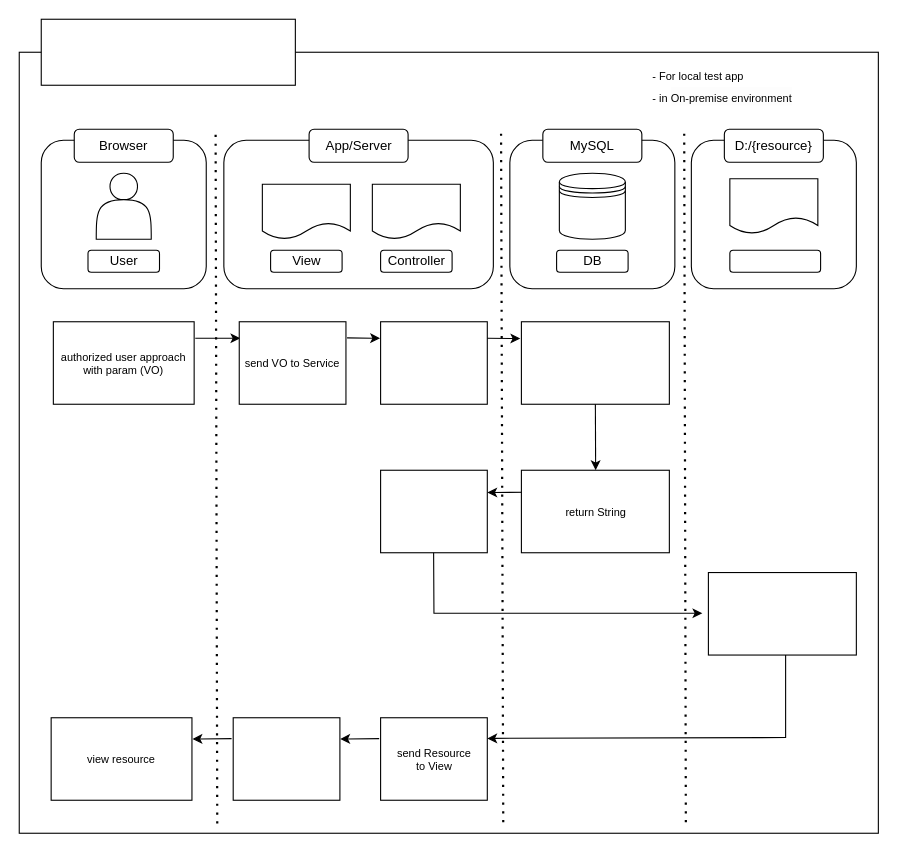
Image size: 898x853. Some labels were removed from this diagram. The shapes that lost their labels are listed below. From the top down, each one's centre as x and y in pixels, then its label:
At point 167,51: "Concept of main APP".
At point 775,260: "FileSystem".
At point 433,362: "search String (Resource Directory) refer to VO".
At point 594,362: "execute select Query of generated by Service".
At point 433,511: "search Resource refer to String".
At point 781,613: "return Resource".
At point 286,758: "return Resource match with VO".
